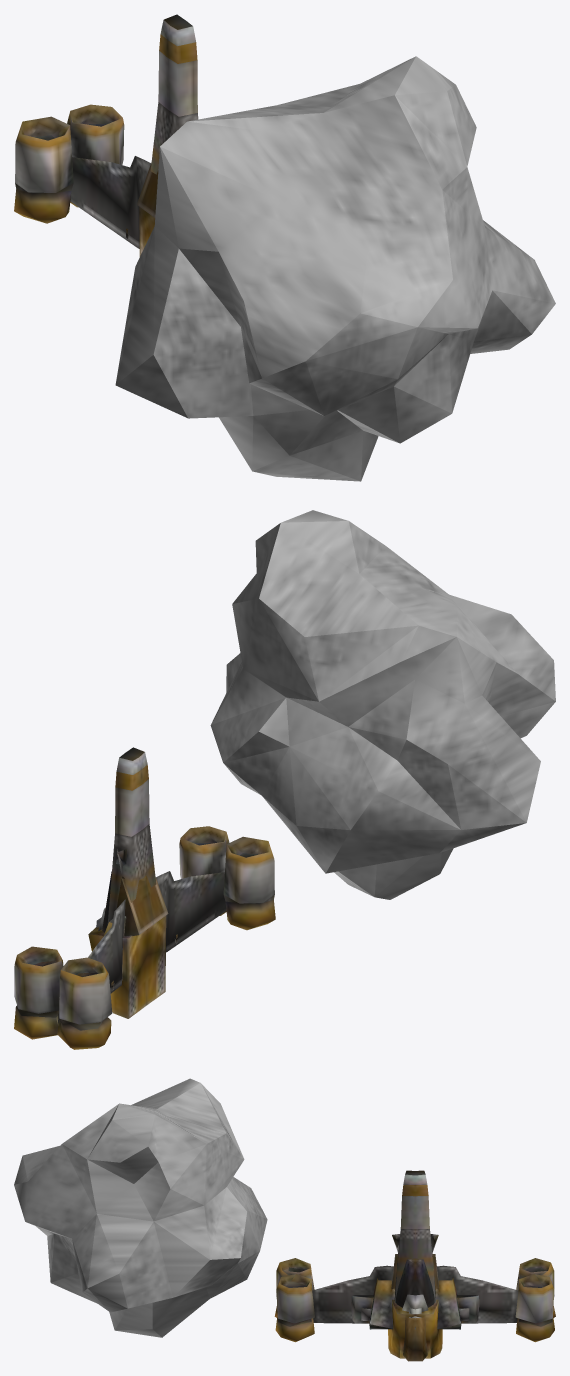
Rendered from starviee.glb.
The picture shows the model from 3 angles, top to bottom: view 1: azimuth 30°, elevation 25°; view 2: azimuth 150°, elevation 25°; view 3: azimuth 270°, elevation 25°; orthographic projection. The views are drawn at different scales.
Visible parts, largest first — view 1: Asteroid, Spitfire; view 2: Asteroid, Spitfire; view 3: Asteroid, Spitfire.
Boxes of the visible parts, left/top/right/bottom form: Asteroid: left=115, top=56, right=555, bottom=481; Spitfire: left=14, top=14, right=198, bottom=256; Asteroid: left=210, top=510, right=555, bottom=899; Spitfire: left=14, top=747, right=275, bottom=1049; Asteroid: left=14, top=1078, right=267, bottom=1337; Spitfire: left=274, top=1170, right=555, bottom=1361.
Size of the model in its own units: 0.1022 by 0.1009 by 0.1974.
Materials: 2 (2 with a texture image).
